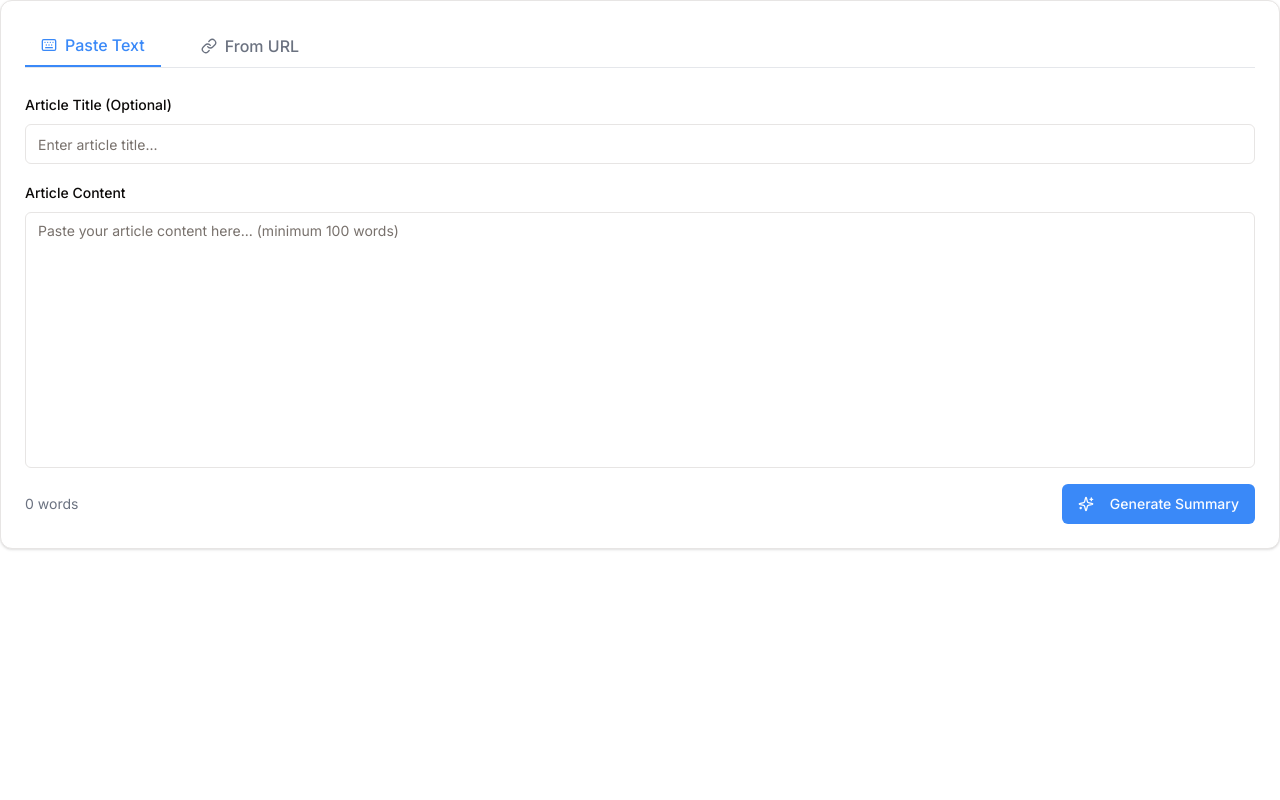
Test case: InputSection Component › should validate text input minimum length
In the text box with placeholder "Paste your article content here... (minimum 100 words)": (640,340) [25,212,1255,468], type "Too short"
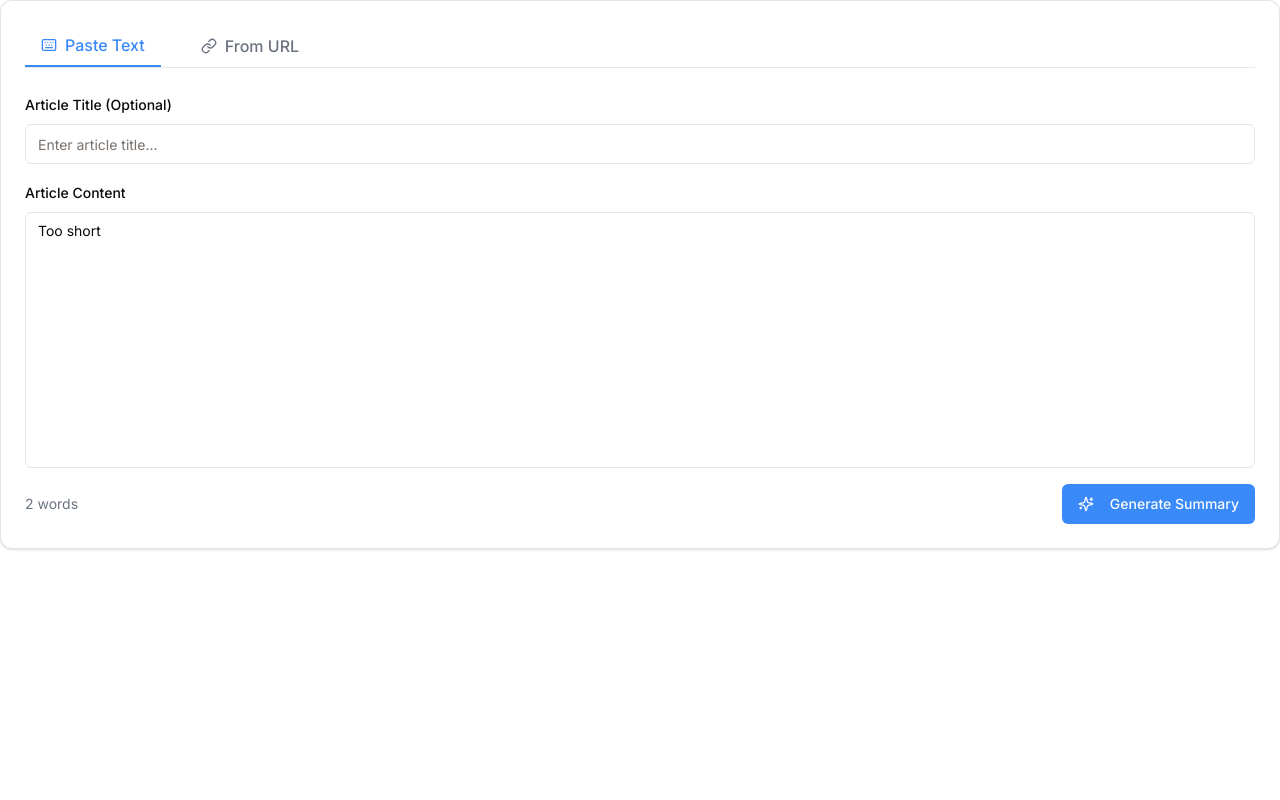
Click the button "Generate Summary": (1158,504) [1062,484,1255,524]
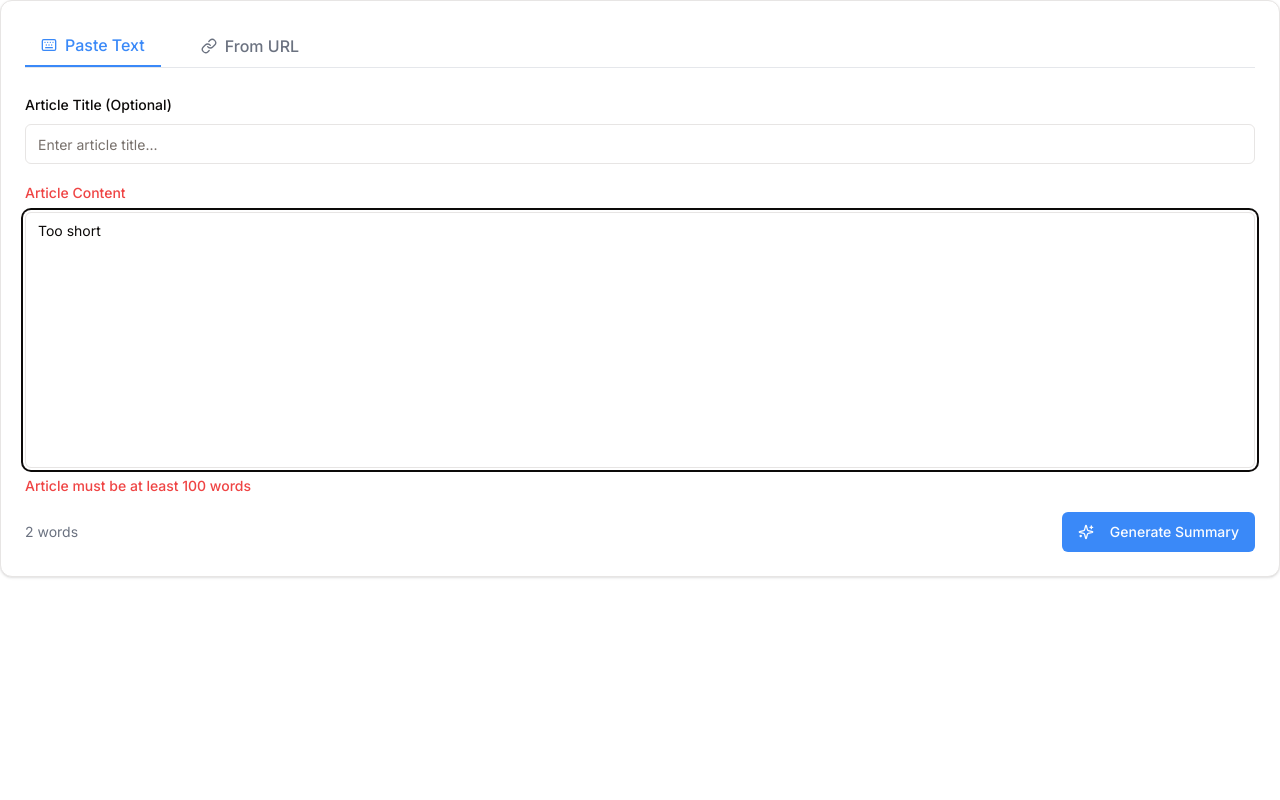
Result: the text "Article must be at least 100 words" is shown at [25,477,251,494]
